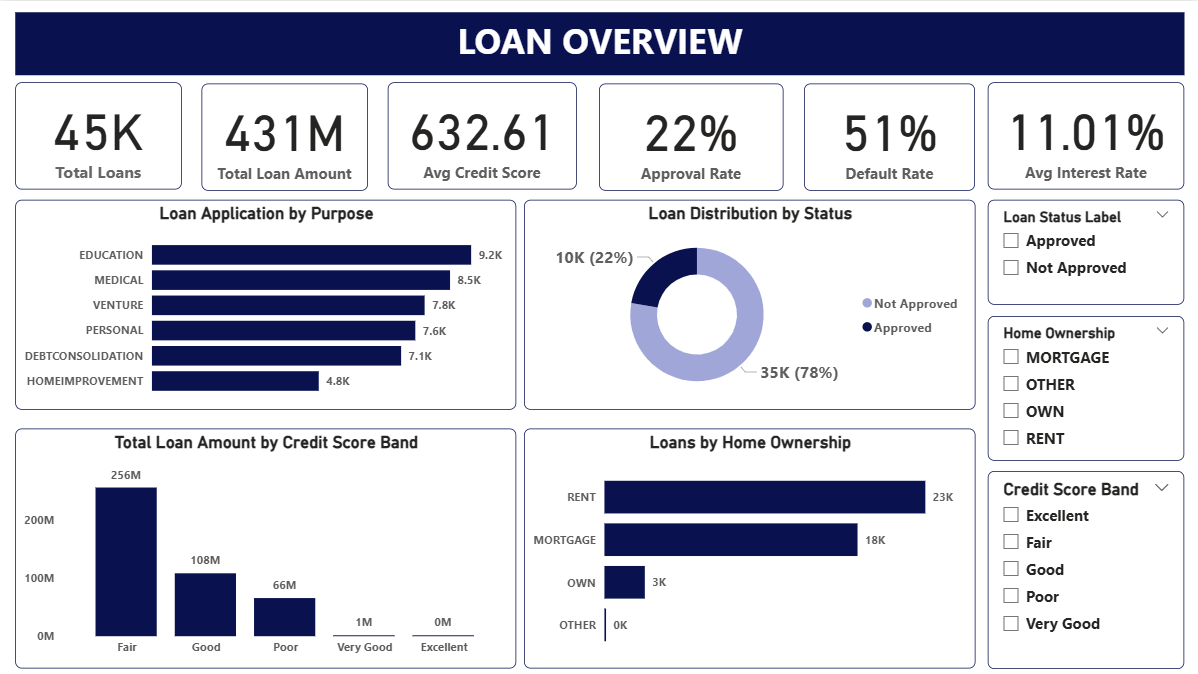

What the dashboard file says about the page in this screenshot:
{"tool":"powerbi","page":{"name":"Loan Overview","canvas":[1280,720],"ordinal":0},"visuals":[{"type":"textbox","box":[16.9,12.1,1247.5,67.6],"z":0},{"type":"card","fields":{"Values":["Loan_Analysis.Total_Loans"]},"box":[16.9,86.9,177.3,114.6],"z":1000},{"type":"card","fields":{"Values":["Loan_Analysis.Total Loan Amount"]},"box":[216,88.1,177.3,114.6],"z":2000},{"type":"card","fields":{"Values":["Loan_Analysis.Approval_Rate"]},"box":[639.4,88.1,196.6,114.6],"z":3000},{"type":"card","fields":{"Values":["Loan_Analysis.Default_Rate"]},"box":[859,88.1,182.2,114.6],"z":4000},{"type":"card","fields":{"Values":["Loan_Analysis.Avg_Credit_Score"]},"box":[415,86.9,201.5,114.6],"z":5000},{"type":"card","fields":{"Values":["Loan_Analysis.Avg_Interest_Rate"]},"box":[1054.4,86.9,209.9,114.6],"z":6000},{"type":"barChart","title":"Loan Application by Purpose","fields":{"Category":["Loan_Analysis.loan_intent"],"Y":["CountNonNull(Loan_Analysis.loan_amnt)"]},"box":[16.9,212.3,534.5,224.4],"z":7000},{"type":"donutChart","title":"Loan Distribution by Status","fields":{"Y":["Loan_Analysis.Total Loans"],"Category":["Loan_Analysis.Loan Status Label"]},"box":[559.8,212.3,481.4,224.4],"z":8000},{"type":"columnChart","title":"Total Loan Amount by Credit Score Band","fields":{"Category":["Loan_Analysis.Credit_Score_Band"],"Y":["Loan_Analysis.Total Loan Amount"]},"box":[16.9,456,534.5,255.8],"z":9000},{"type":"clusteredBarChart","title":"Loans by Home Ownership","fields":{"Category":["Loan_Analysis.Home_Ownership"],"Y":["CountNonNull(Loan_Analysis.loan_intent)"]},"box":[559.8,456,481.4,255.8],"z":10000},{"type":"slicer","fields":{"Values":["Loan_Analysis.Home_Ownership"]},"box":[1054.4,336.6,209.9,154.4],"z":11000},{"type":"slicer","fields":{"Values":["Loan_Analysis.Credit_Score_Band"]},"box":[1054.4,500.7,209.9,211.1],"z":12000},{"type":"slicer","fields":{"Values":["Loan_Analysis.Loan Status Label"]},"box":[1054.4,212.3,209.9,112.2],"z":13000}]}

Visuals, with their boxes in screenshot pixels (x1, y1, x2, y2), scaled from the page's 1280x720 canvas onto the 1198x674 screenshot:
textbox: (x1=16, y1=11, x2=1183, y2=75)
card - Loan_Analysis.Total_Loans: (x1=16, y1=81, x2=182, y2=189)
card - Loan_Analysis.Total Loan Amount: (x1=202, y1=82, x2=368, y2=190)
card - Loan_Analysis.Approval_Rate: (x1=598, y1=82, x2=782, y2=190)
card - Loan_Analysis.Default_Rate: (x1=804, y1=82, x2=974, y2=190)
card - Loan_Analysis.Avg_Credit_Score: (x1=388, y1=81, x2=577, y2=189)
card - Loan_Analysis.Avg_Interest_Rate: (x1=987, y1=81, x2=1183, y2=189)
"Loan Application by Purpose" barChart: (x1=16, y1=199, x2=516, y2=409)
"Loan Distribution by Status" donutChart: (x1=524, y1=199, x2=974, y2=409)
"Total Loan Amount by Credit Score Band" columnChart: (x1=16, y1=427, x2=516, y2=666)
"Loans by Home Ownership" clusteredBarChart: (x1=524, y1=427, x2=974, y2=666)
slicer - Loan_Analysis.Home_Ownership: (x1=987, y1=315, x2=1183, y2=460)
slicer - Loan_Analysis.Credit_Score_Band: (x1=987, y1=469, x2=1183, y2=666)
slicer - Loan_Analysis.Loan Status Label: (x1=987, y1=199, x2=1183, y2=304)
